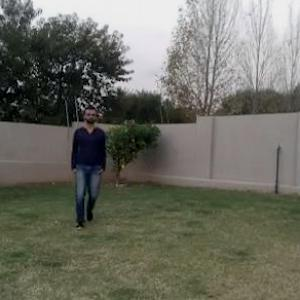follow: (72, 109, 100, 220)
